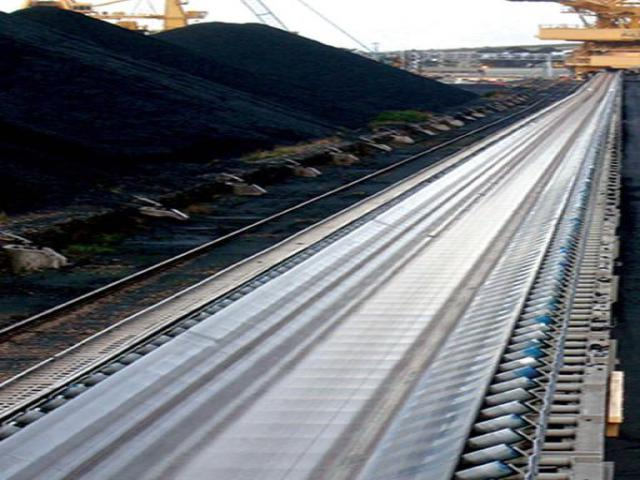conveyor: (0, 67, 626, 479)
